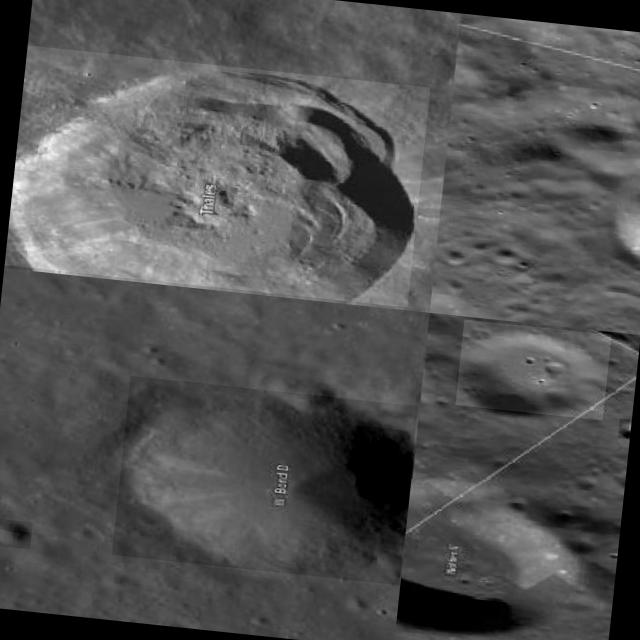crater: (4, 45, 430, 307), (111, 376, 418, 585), (395, 478, 590, 640), (455, 320, 611, 420), (610, 173, 640, 267), (0, 517, 32, 549), (617, 418, 630, 439)
